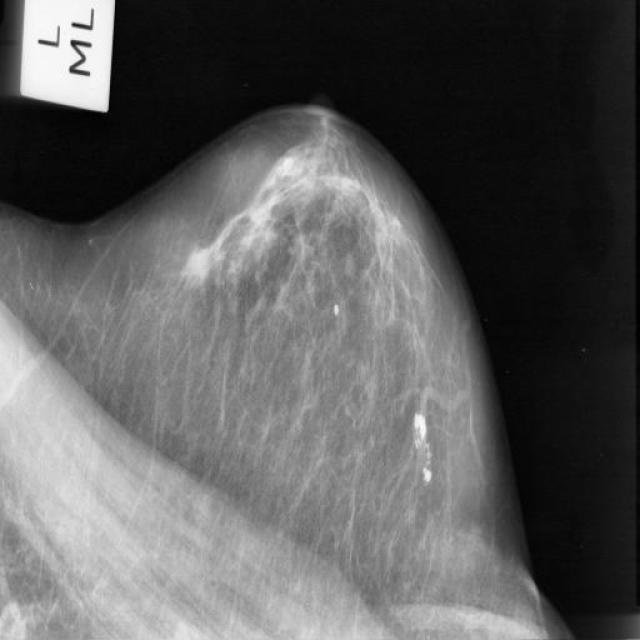cancer: (160, 219, 224, 306)
